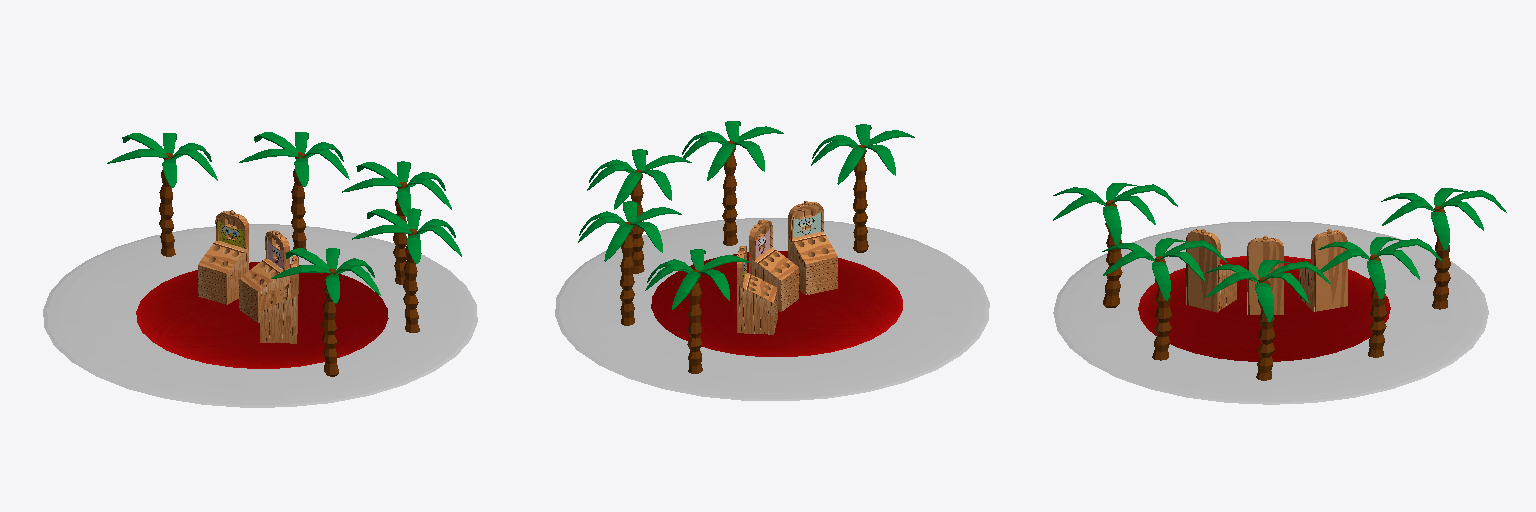
3 renders of one model, left to right at view 1: azimuth 30°, elevation 25°; view 2: azimuth 150°, elevation 25°; view 3: azimuth 270°, elevation 25°, orthographic.
Visible parts, largest first — view 1: Sphere, Sphere.001, WhachopefullydoneOBJ.004, WhachopefullydoneOBJ.001, WhachopefullydoneOBJ.002, Cube.003, Cube.004, Cube.005, Cube.001, Cube.002, Cylinder.004, Cylinder.003 (+3 smaller); view 2: Sphere, Sphere.001, WhachopefullydoneOBJ.002, WhachopefullydoneOBJ.001, WhachopefullydoneOBJ.004, Cube.004, Cube.001, Cube.005, Cube.002, Cube.003, Cylinder.004, Cylinder.003 (+3 smaller); view 3: Sphere, Sphere.001, WhachopefullydoneOBJ.004, WhachopefullydoneOBJ.002, Cube.003, Cube.005, Cube.002, Cube.001, Cube.004, WhachopefullydoneOBJ.001, Cylinder.003, Cylinder.002 (+3 smaller).
Boxes of the visible parts, box(x1,y1,x2,y2) form: Sphere: box(43, 224, 477, 407); Sphere.001: box(136, 262, 388, 368); WhachopefullydoneOBJ.004: box(198, 210, 248, 304); WhachopefullydoneOBJ.001: box(239, 230, 289, 322); WhachopefullydoneOBJ.002: box(260, 256, 298, 343); Cube.003: box(352, 208, 461, 263); Cube.004: box(271, 248, 380, 303); Cube.005: box(107, 133, 217, 187); Cube.001: box(239, 132, 349, 186); Cube.002: box(342, 161, 451, 216); Cylinder.004: box(322, 268, 338, 376); Cylinder.003: box(403, 229, 419, 332); Sphere: box(555, 218, 989, 400); Sphere.001: box(651, 251, 902, 356); WhachopefullydoneOBJ.002: box(788, 201, 837, 294); WhachopefullydoneOBJ.001: box(749, 219, 798, 311); WhachopefullydoneOBJ.004: box(737, 246, 777, 334); Cube.004: box(811, 124, 914, 184); Cube.001: box(578, 201, 681, 261); Cube.005: box(645, 249, 749, 309); Cube.002: box(587, 149, 691, 209); Cube.003: box(682, 121, 783, 180); Cylinder.004: box(853, 145, 868, 252); Cylinder.003: box(722, 141, 737, 245); Sphere: box(1053, 221, 1488, 404); Sphere.001: box(1138, 256, 1390, 361); WhachopefullydoneOBJ.004: box(1299, 229, 1347, 311); WhachopefullydoneOBJ.002: box(1186, 229, 1236, 312); Cube.003: box(1102, 238, 1227, 300); Cube.005: box(1381, 188, 1506, 250); Cube.002: box(1205, 260, 1330, 321); Cube.001: box(1317, 237, 1442, 298); Cube.004: box(1053, 183, 1177, 244); WhachopefullydoneOBJ.001: box(1247, 236, 1283, 314); Cylinder.003: box(1152, 256, 1171, 360); Cylinder.002: box(1256, 277, 1274, 380).
Bounding box in the file's own units: 6.12 × 1.88 × 6.39.
Materials: 13 (7 with a texture image).